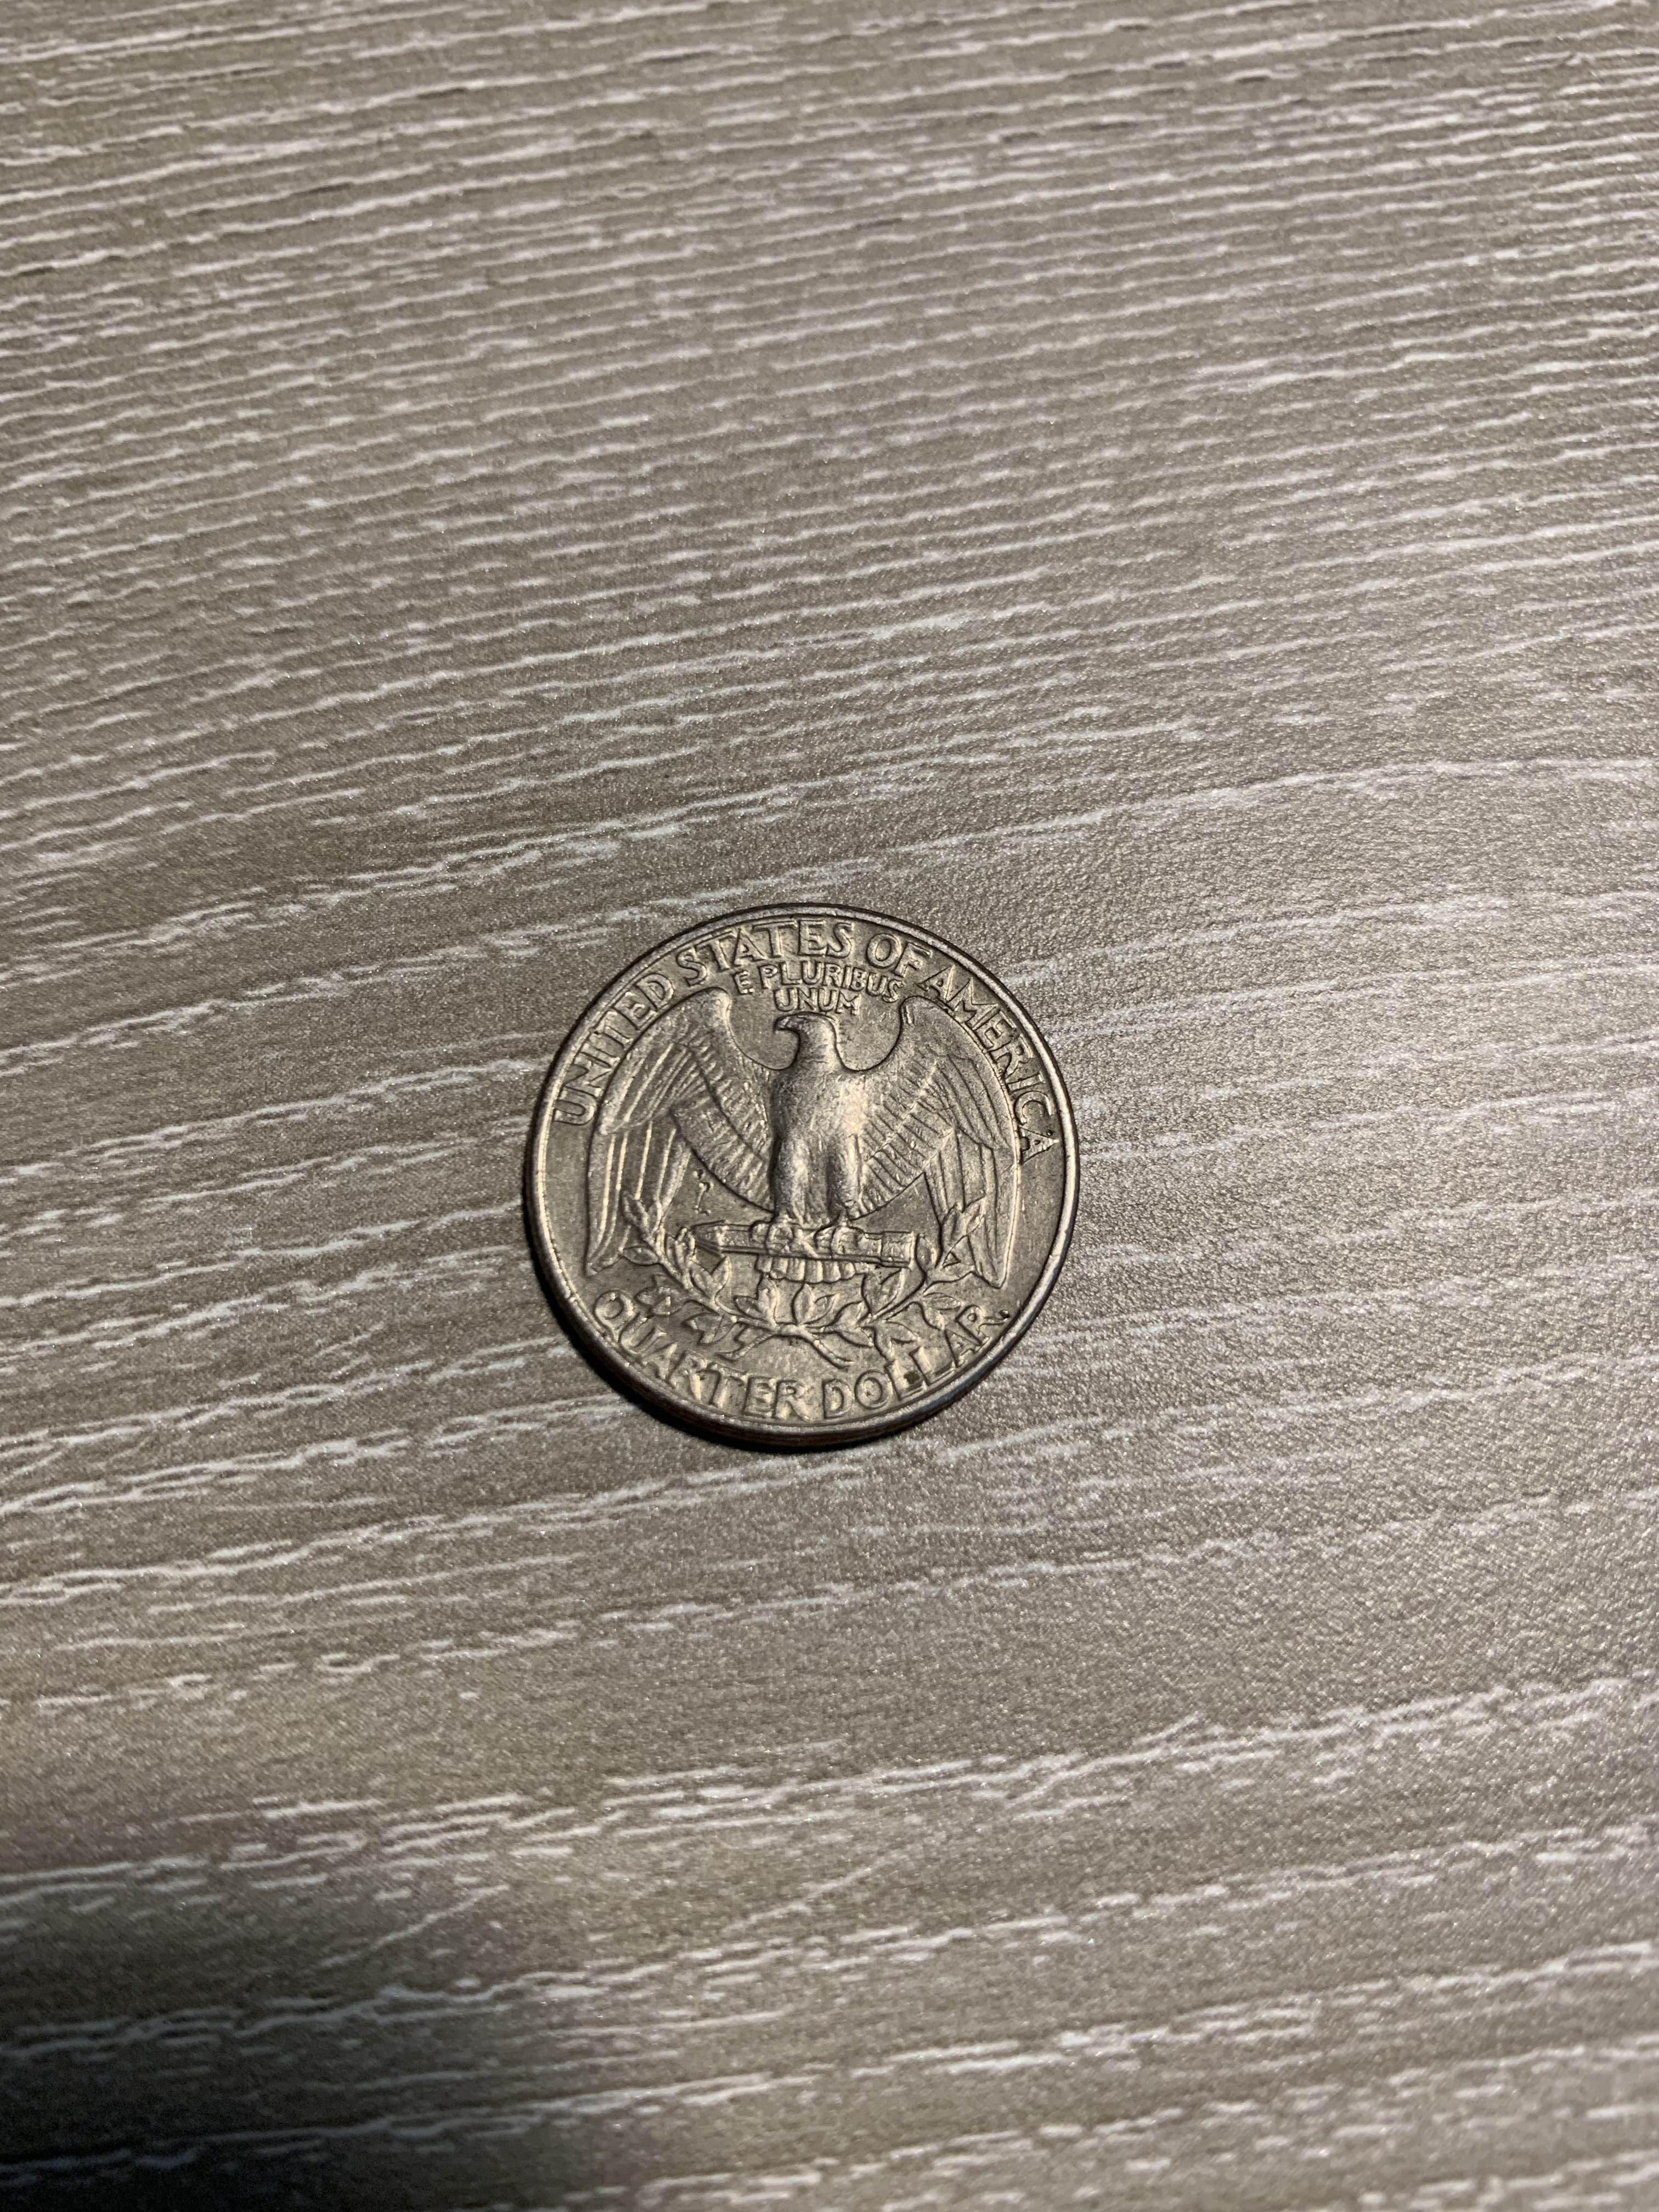Quarter: (493, 881, 1105, 1468)
